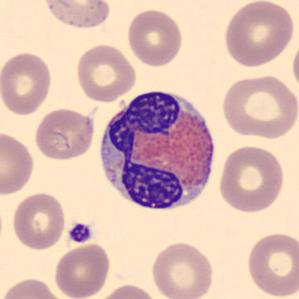Eosinophil: (92, 82, 221, 220)
Platelets: (66, 221, 94, 244)
RBC: (218, 72, 298, 140), (221, 0, 297, 68), (216, 142, 287, 214), (148, 239, 215, 299), (73, 42, 138, 103), (244, 229, 298, 298), (125, 6, 185, 68), (0, 49, 54, 117), (9, 190, 68, 252), (32, 106, 97, 162), (52, 242, 112, 299), (0, 129, 36, 196), (41, 0, 113, 31), (0, 275, 67, 299), (96, 282, 158, 299), (289, 37, 299, 94), (0, 199, 5, 254)
